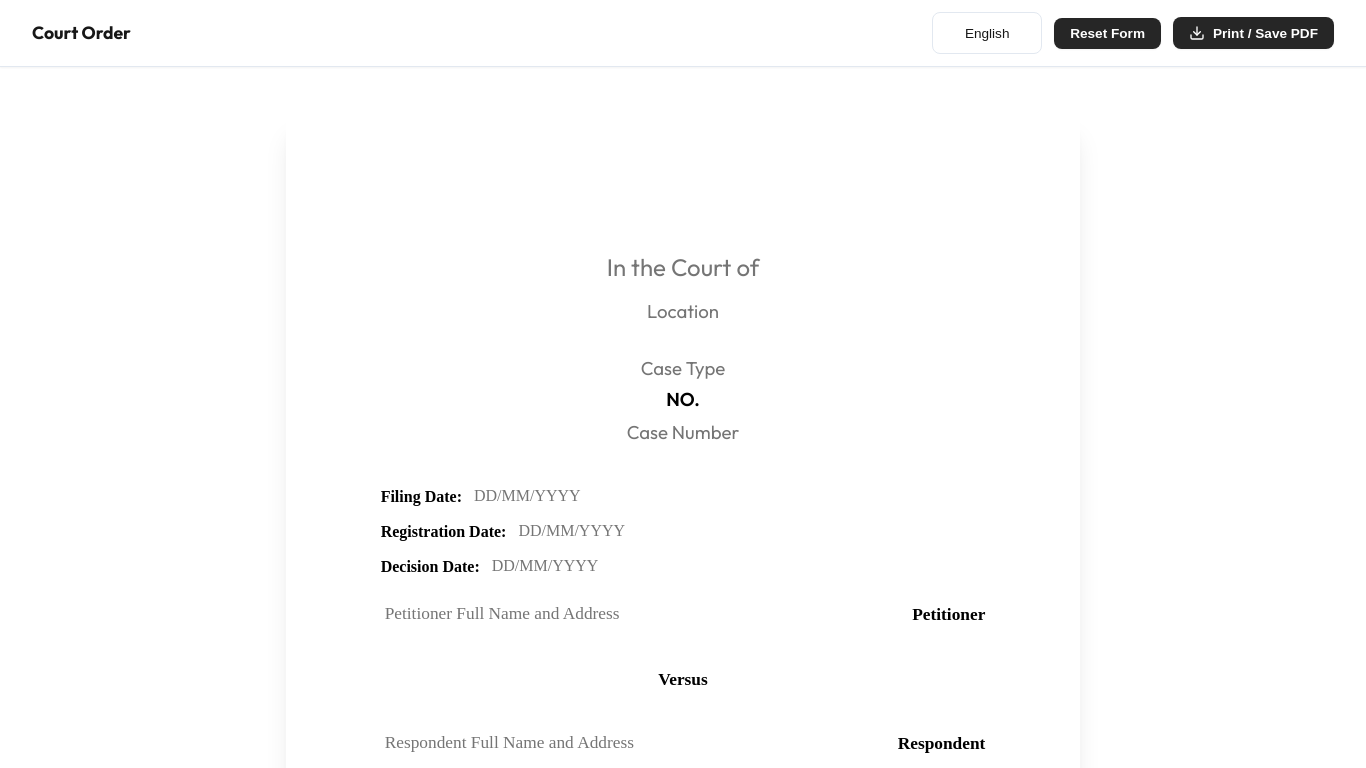
Test: OrderForm Component › closes language menu when backdrop is clicked on mobile
Note: Open menu
Click the button "English": click(987, 33) [932,12,1042,54]
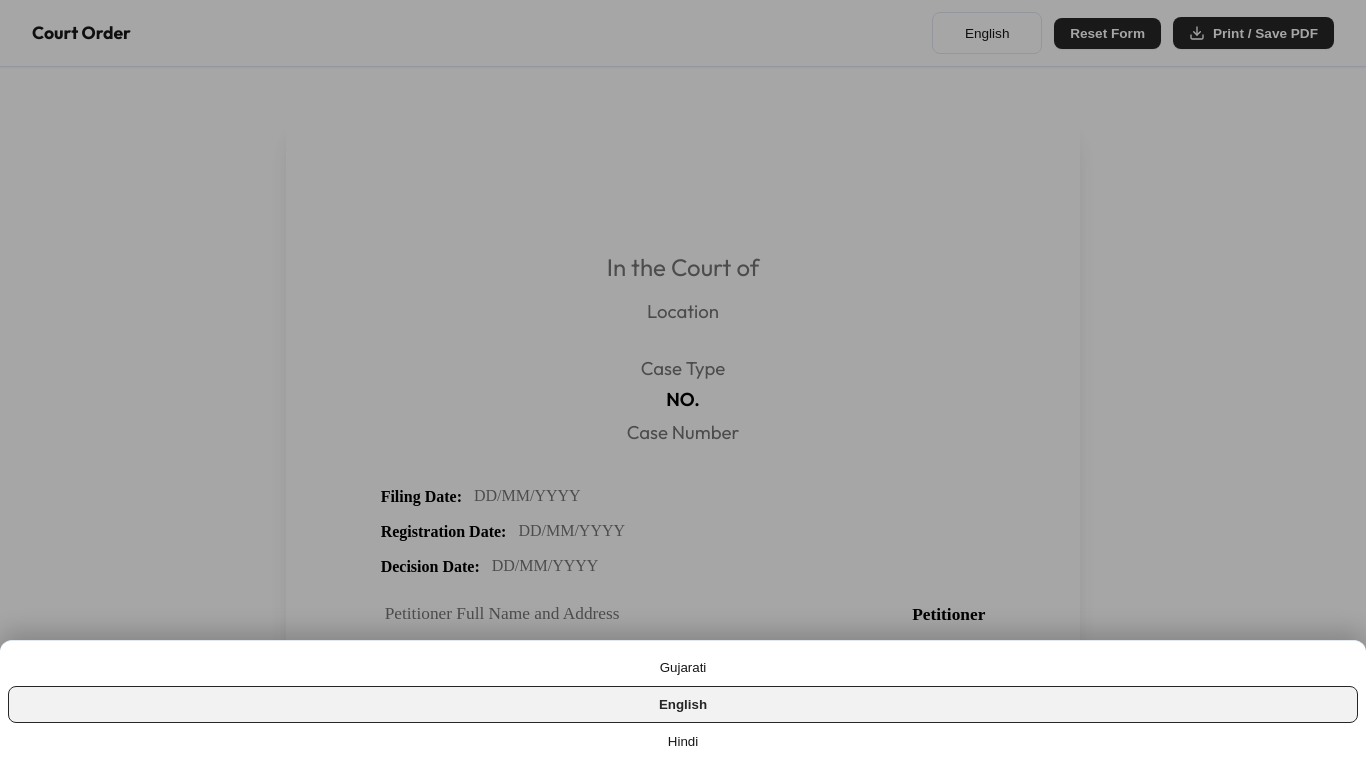
Now the button "Gujarati" is shown, box [8,649,1358,686]
Note: Click backdrop
Click the button named "Close language menu": click(683, 384) [0,0,1365,767]
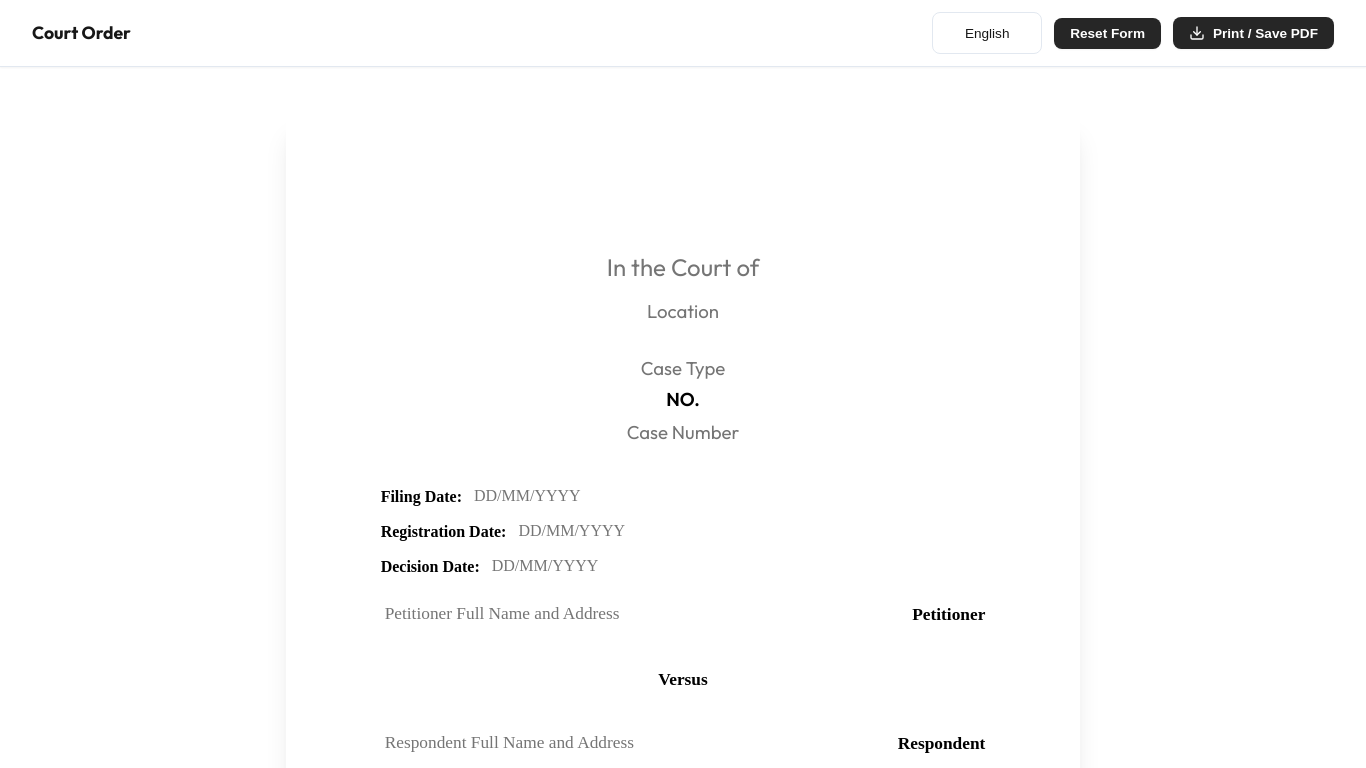
Now the button "Gujarati" is gone
